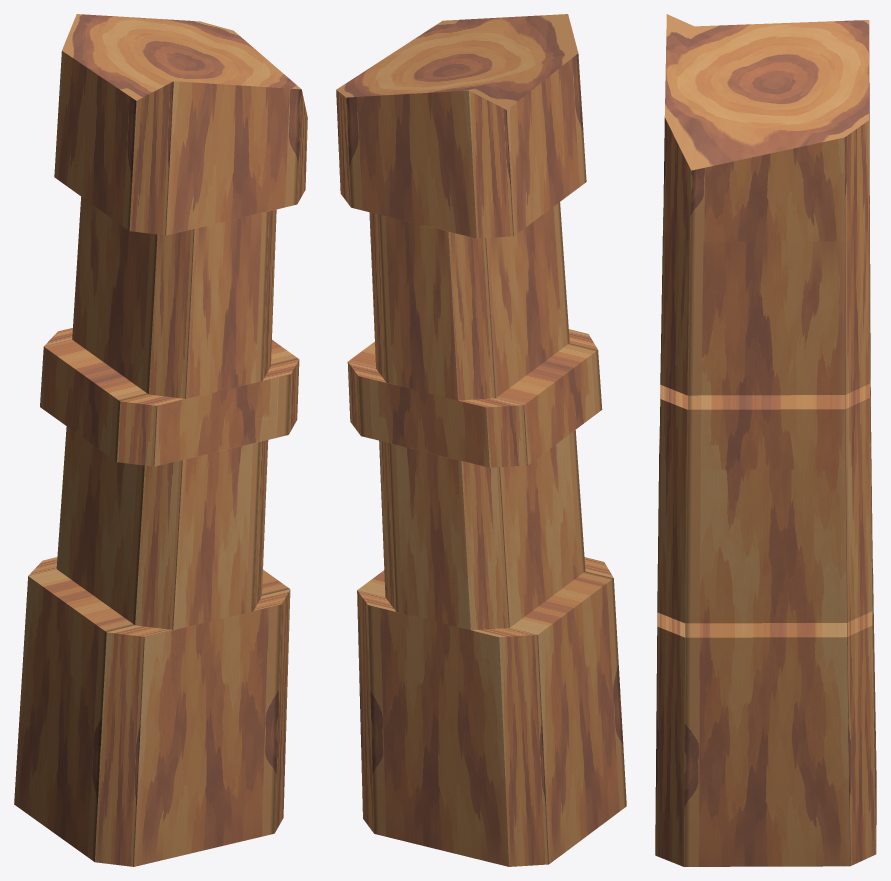
File: fence_w_post_c.glb
3 views of the same model, side by side, from view 1: azimuth 30°, elevation 25°; view 2: azimuth 150°, elevation 25°; view 3: azimuth 270°, elevation 25° (orthographic). The views are drawn at different scales.
Parts seen in each view (by area): view 1: fence_w_post_c; view 2: fence_w_post_c; view 3: fence_w_post_c.
Boxes of the visible parts, bbox=[...] form: fence_w_post_c: bbox=[14, 14, 307, 866]; fence_w_post_c: bbox=[336, 14, 626, 866]; fence_w_post_c: bbox=[655, 14, 876, 866].
Size of the model in its own units: 0.3805 by 1.29 by 0.3275.
Materials: 1 (1 with a texture image).
